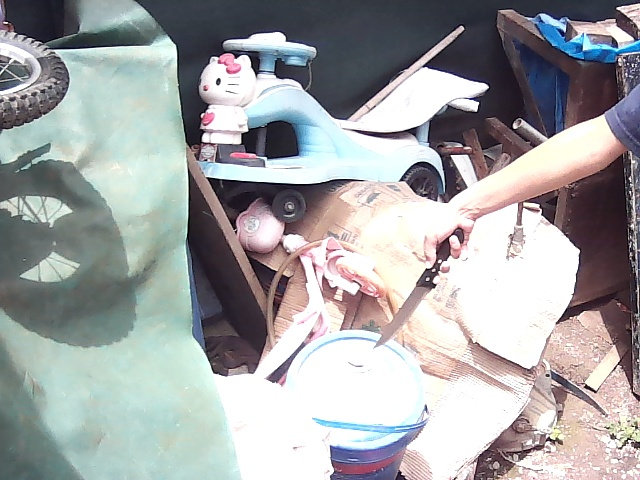cuchillo: (369, 240, 448, 351)
